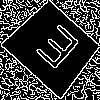E: (27, 23, 82, 78)
